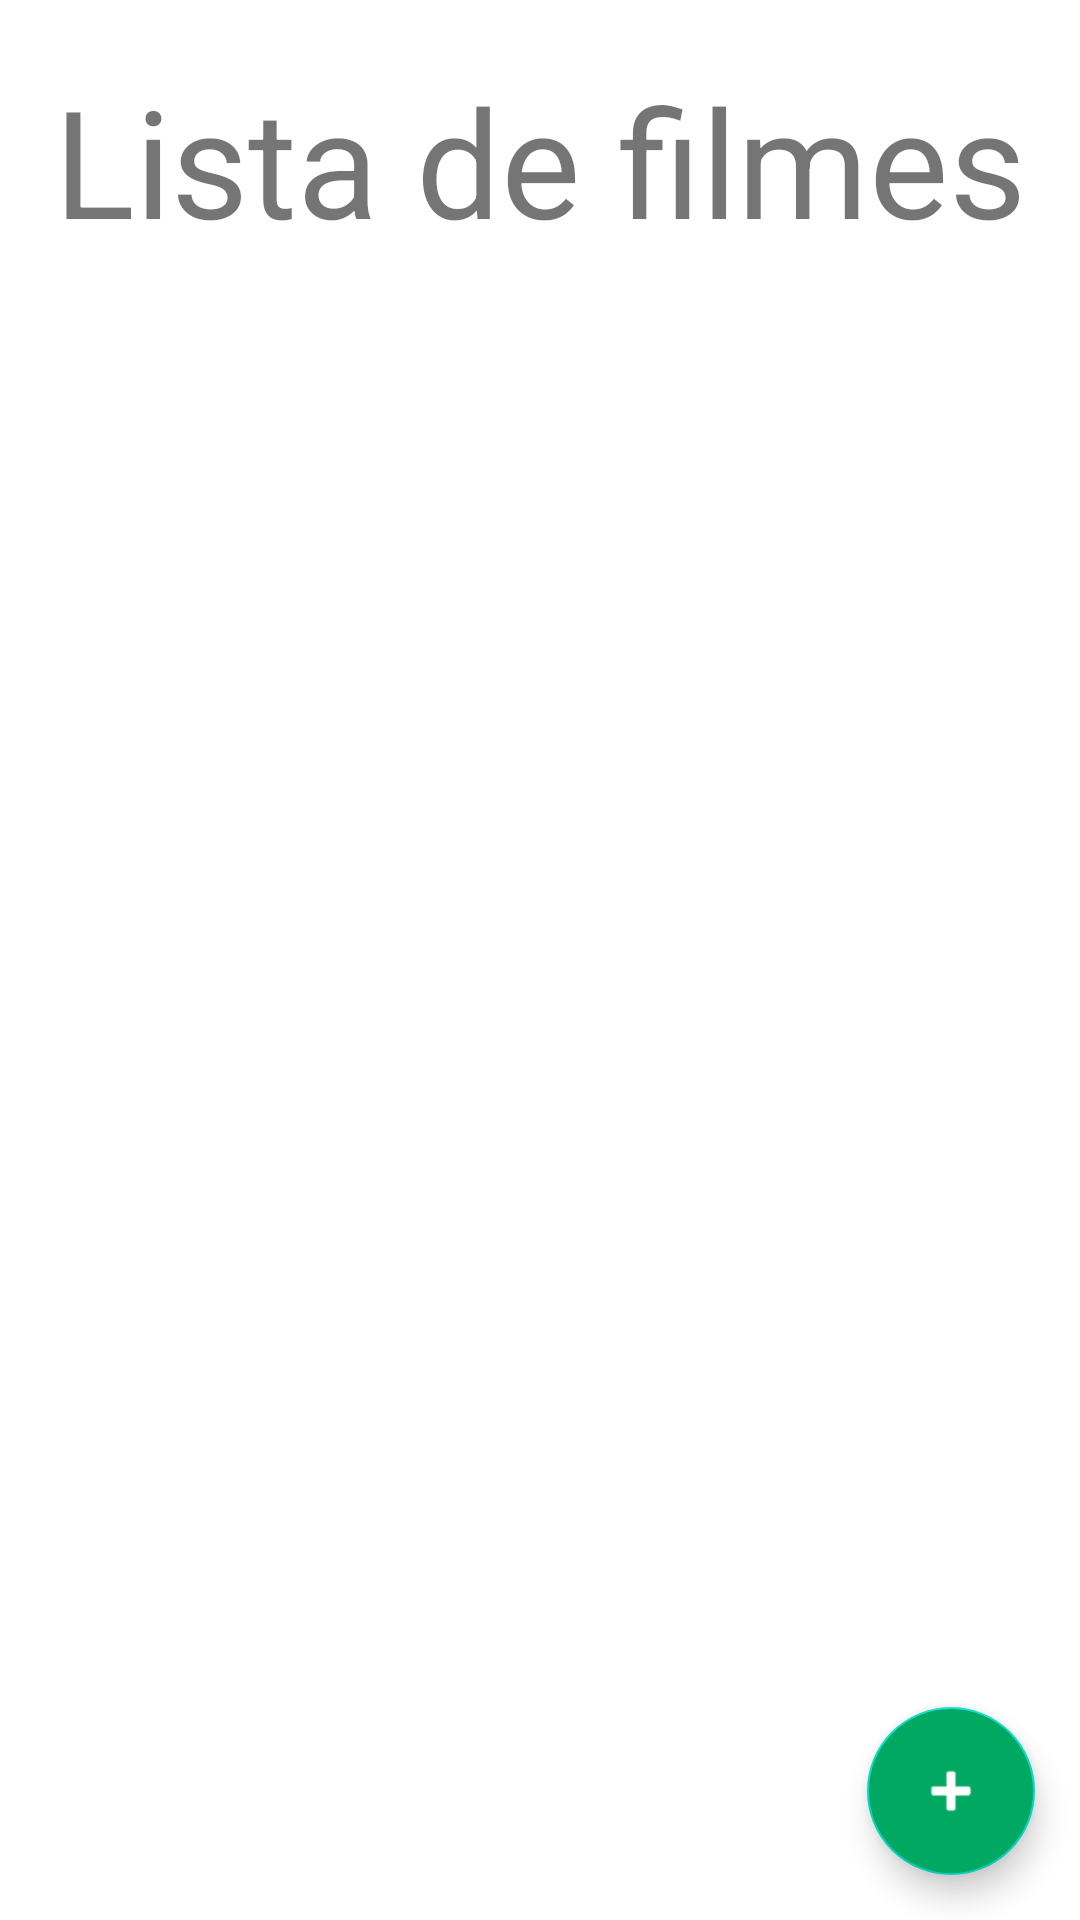

Icons on this 1080px x 1920px Android screen, each with its box as rect(x1, y1, x2, y2):
add: rect(867, 1707, 1035, 1875)
